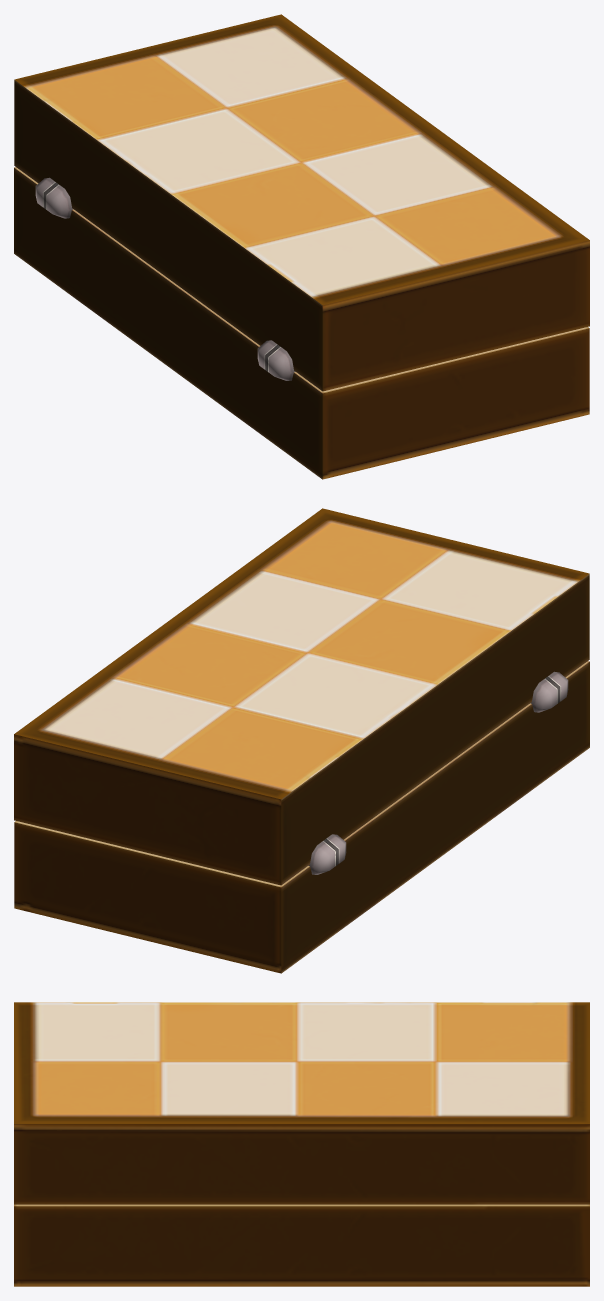
The model's file is SE_Checkers_02.fbx.
3 views of the same model, one above another, from view 1: azimuth 30°, elevation 25°; view 2: azimuth 150°, elevation 25°; view 3: azimuth 270°, elevation 25° (orthographic). The views are drawn at different scales.
Parts seen in each view (by area): view 1: SE_Checkers_02; view 2: SE_Checkers_02; view 3: SE_Checkers_02.
Boxes of the visible parts, x1=… form: SE_Checkers_02: x1=14, y1=14, x2=589, y2=479; SE_Checkers_02: x1=14, y1=508, x2=589, y2=973; SE_Checkers_02: x1=14, y1=1002, x2=589, y2=1286.
Bounding box in the file's own units: 0.9138 × 0.5433 × 1.75.
